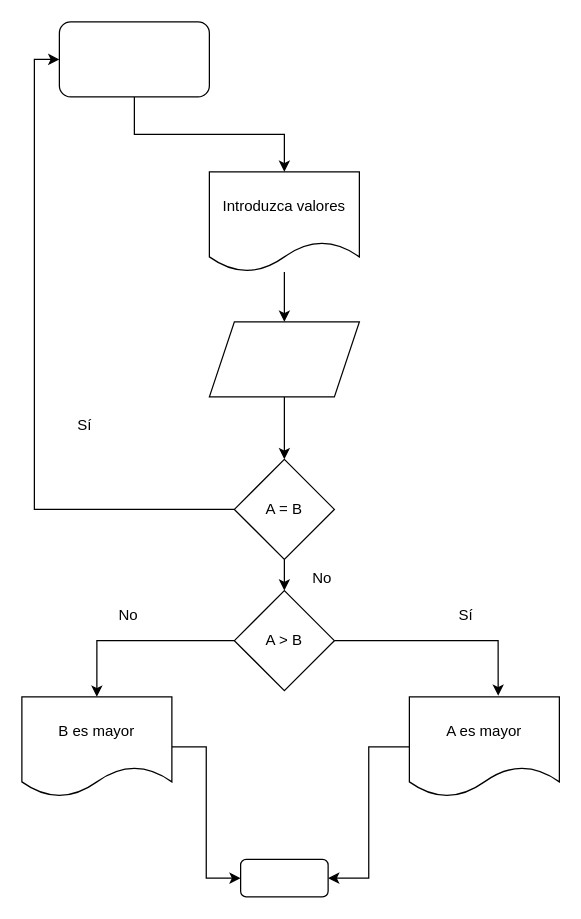
Image size: 581x919. Some labels were removed from this diagram. The centre of each missing label's shape, as x and y in pixels:
"A,B" belongs at (283,359).
"Fin" belongs at (283,877).
"Inicio" belongs at (133,59).
